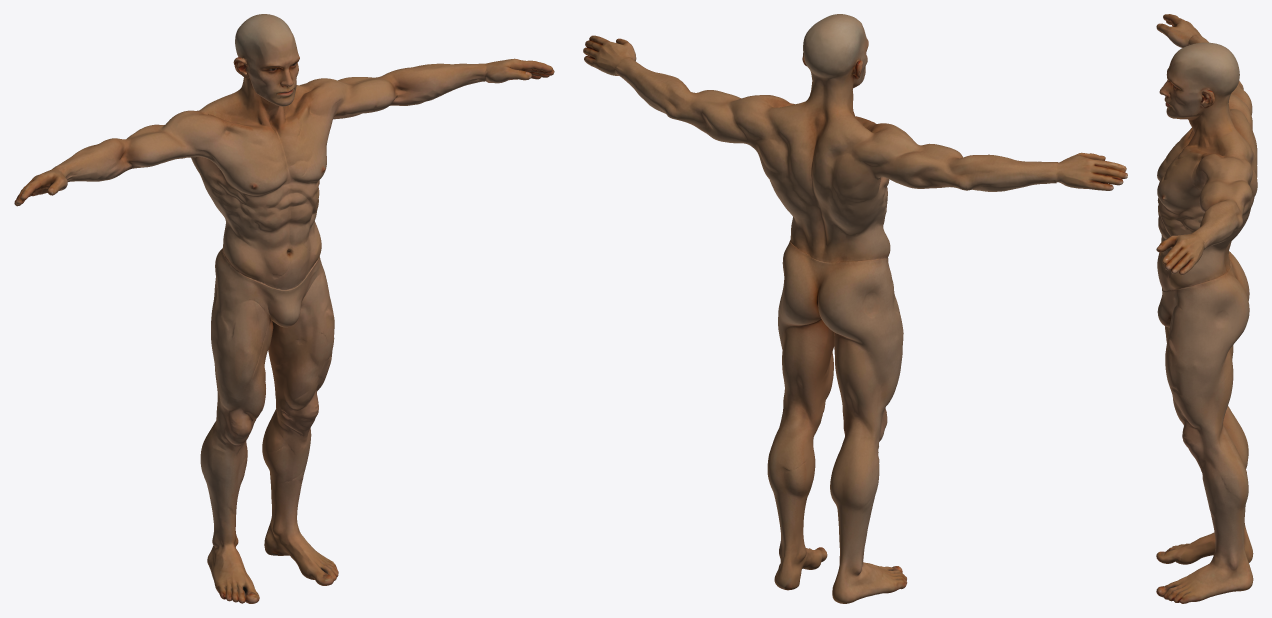
The model's file is human.glb.
3 views of the same model, side by side, from view 1: azimuth 30°, elevation 25°; view 2: azimuth 150°, elevation 25°; view 3: azimuth 270°, elevation 25° (orthographic). The views are drawn at different scales.
Visible parts, largest first — view 1: tripo_node_936a3378-8a04-42e8-9f27-461fbd016567; view 2: tripo_node_936a3378-8a04-42e8-9f27-461fbd016567; view 3: tripo_node_936a3378-8a04-42e8-9f27-461fbd016567.
Part boxes in pixels (bbox=[...]): tripo_node_936a3378-8a04-42e8-9f27-461fbd016567: bbox=[14, 14, 554, 603]; tripo_node_936a3378-8a04-42e8-9f27-461fbd016567: bbox=[583, 14, 1127, 603]; tripo_node_936a3378-8a04-42e8-9f27-461fbd016567: bbox=[1156, 14, 1257, 603].
Size of the model in its own units: 0.9788 by 0.9768 by 0.1678.
1 material, 1 textured.
